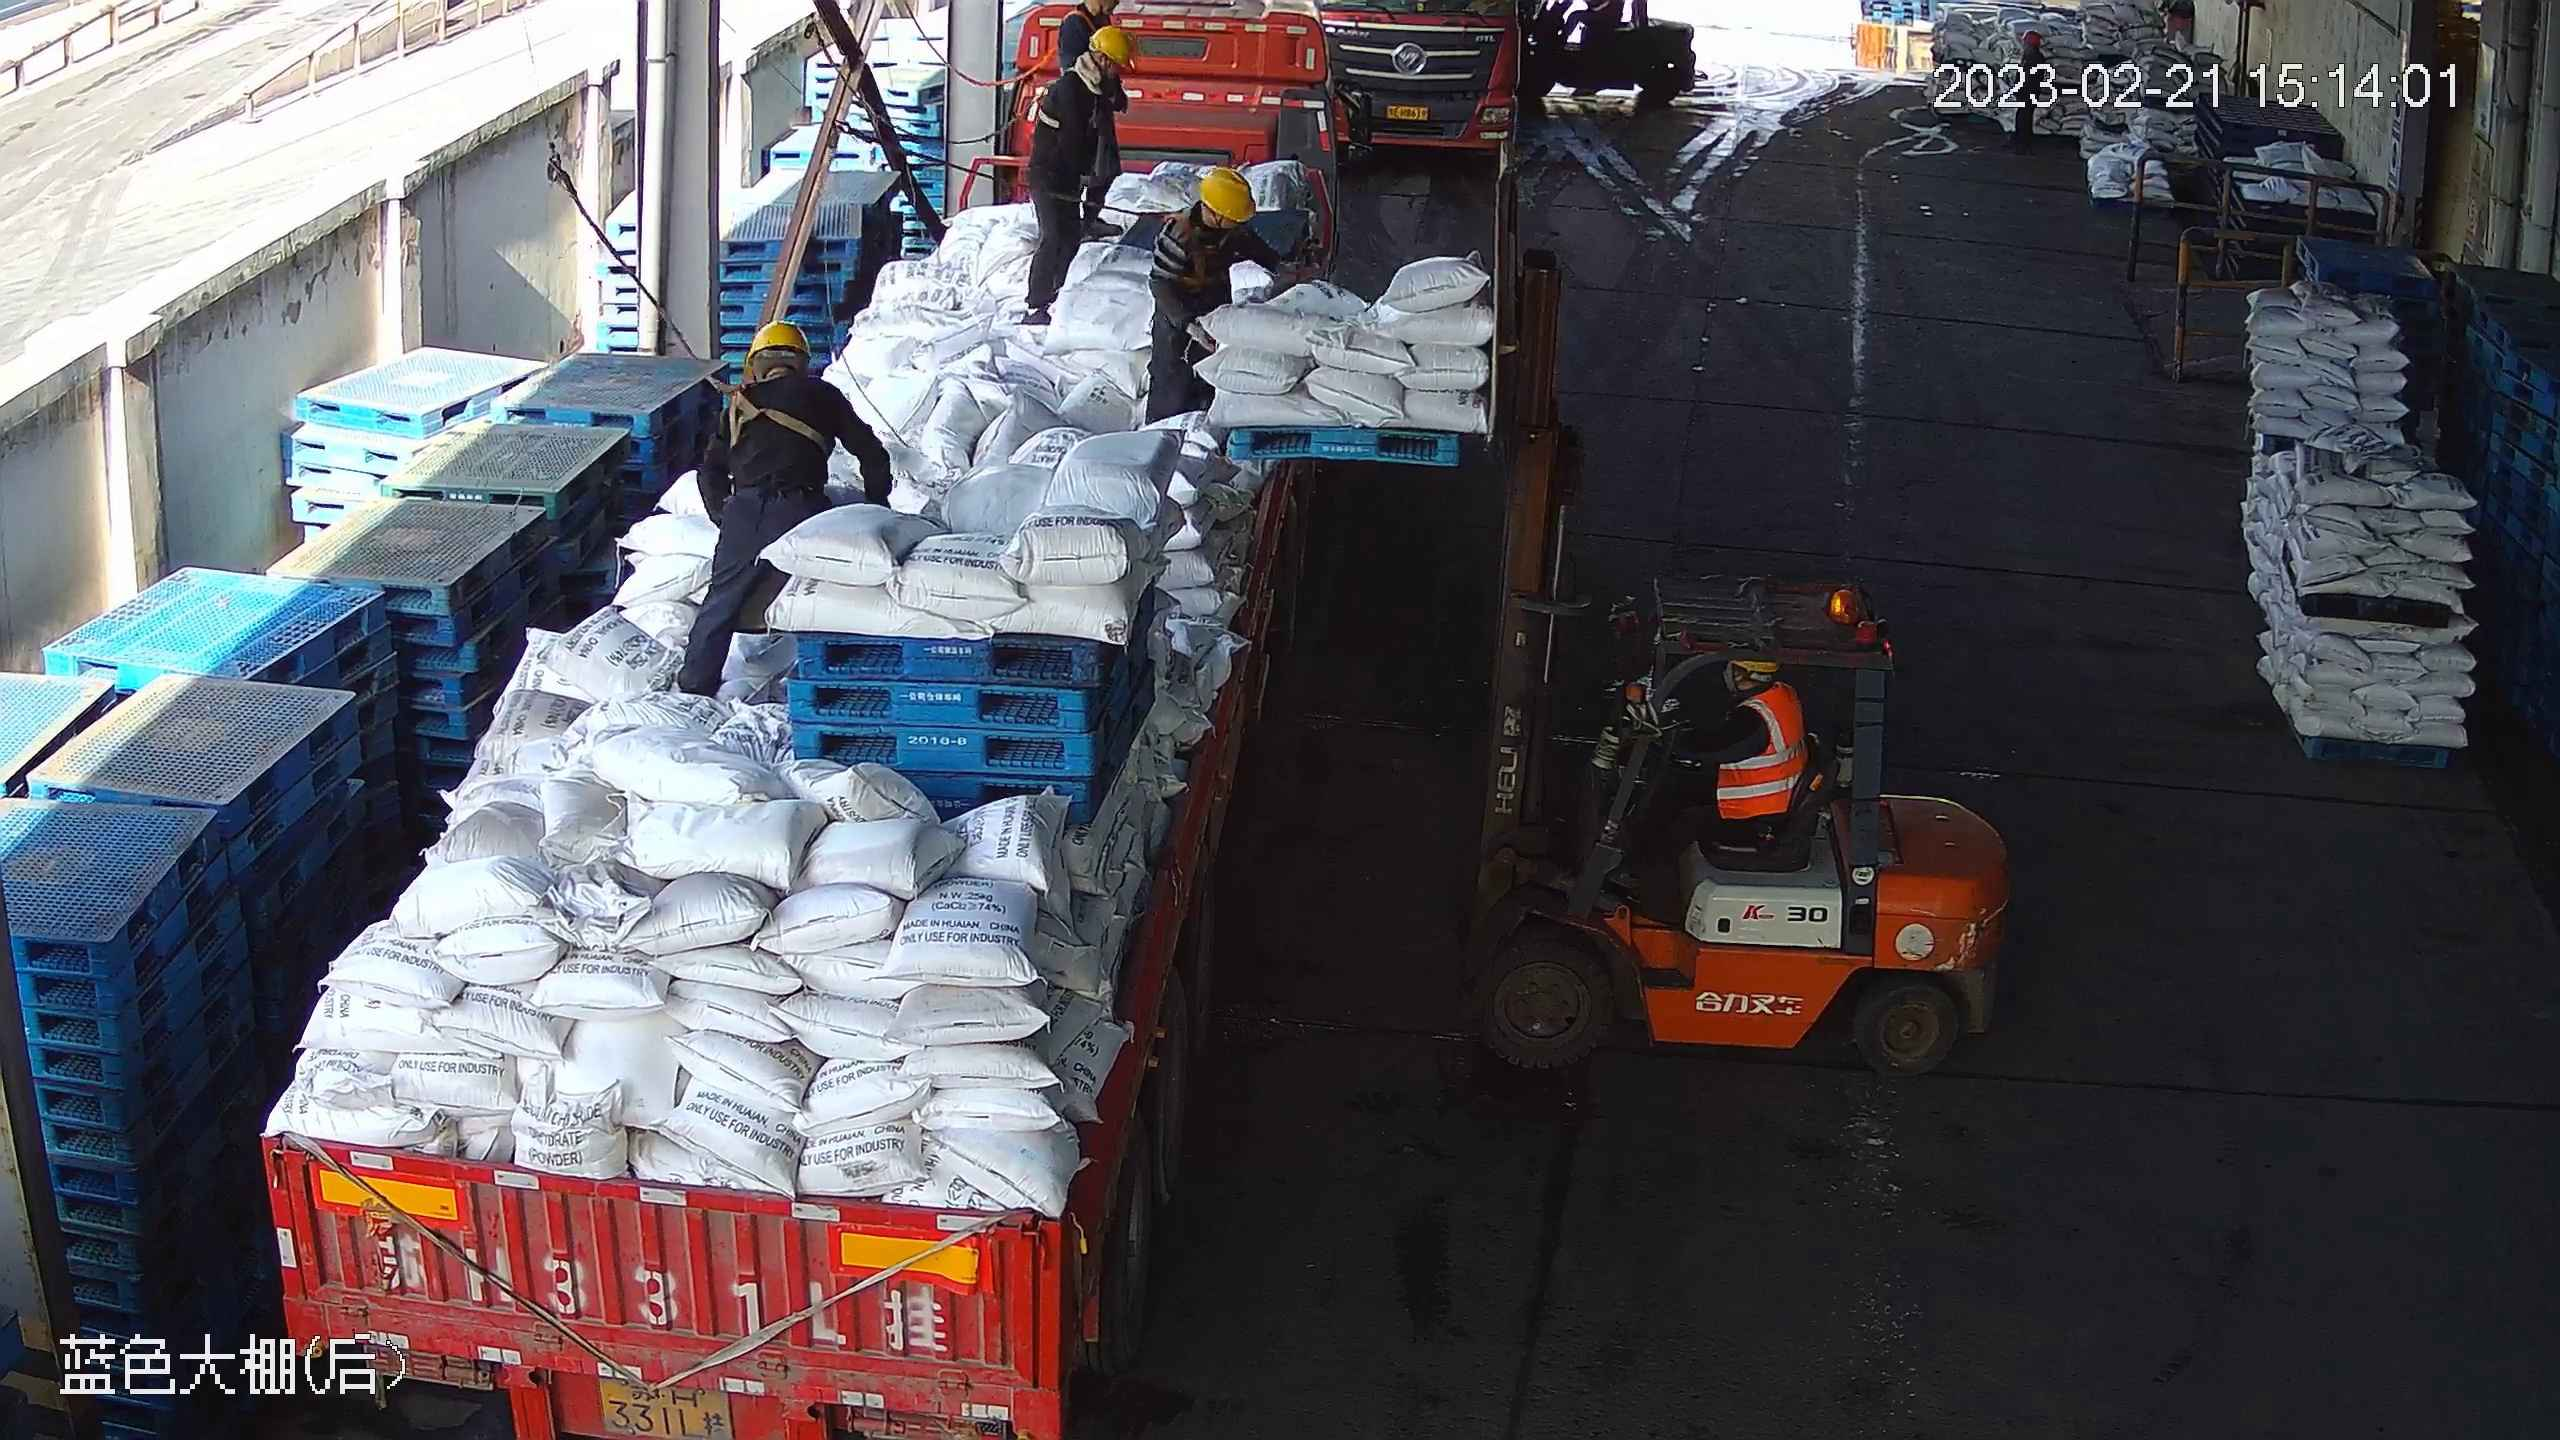belt: (716, 375, 832, 456), (1158, 213, 1232, 292), (1025, 68, 1075, 130), (1048, 9, 1095, 61)
head: (728, 319, 842, 423), (1161, 166, 1256, 260), (1050, 24, 1138, 109)
helmet: (743, 320, 811, 369), (1198, 167, 1256, 223), (1089, 24, 1137, 70)
people: (675, 318, 894, 698), (1607, 660, 1810, 892), (1143, 166, 1296, 432), (1018, 24, 1139, 326), (1059, 1, 1125, 240)
truck: (256, 1, 1372, 1440), (1316, 1, 1526, 156)
